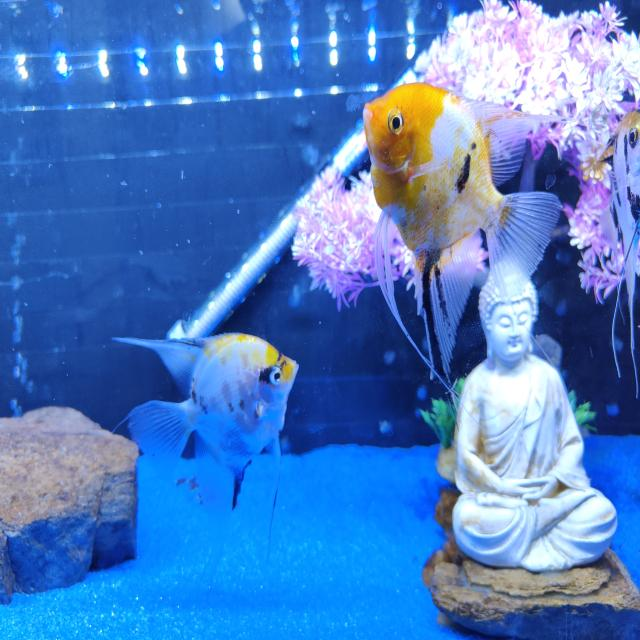Fish: (364, 83, 561, 376), (114, 334, 298, 550), (600, 109, 639, 397)
